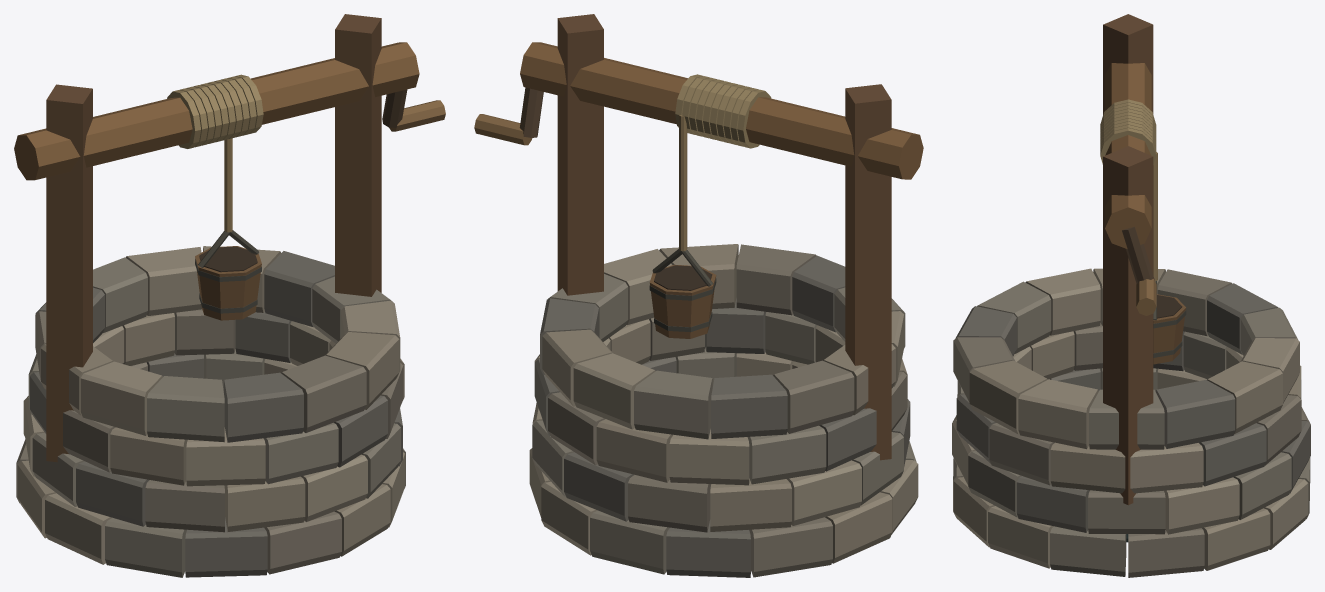
The model's file is well.glb.
3 renders of one model, left to right at view 1: azimuth 30°, elevation 25°; view 2: azimuth 150°, elevation 25°; view 3: azimuth 270°, elevation 25°, orthographic. The views are drawn at different scales.
Parts seen in each view (by area): view 1: well_masonry_and_windlass; view 2: well_masonry_and_windlass; view 3: well_masonry_and_windlass.
Part boxes in pixels (x1=…): well_masonry_and_windlass: x1=14, y1=14, x2=445, y2=577; well_masonry_and_windlass: x1=474, y1=14, x2=923, y2=577; well_masonry_and_windlass: x1=952, y1=14, x2=1310, y2=577.
Size of the model in its own units: 2.26 by 2.24 by 1.77.
